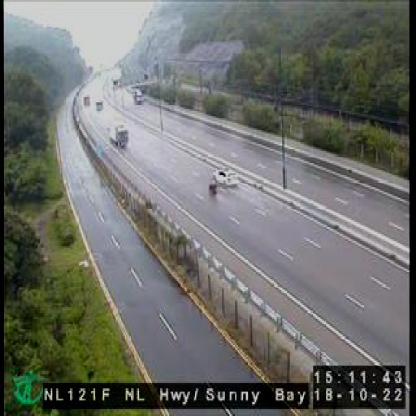Car: (213, 165, 240, 189)
Truck: (105, 117, 129, 150)
